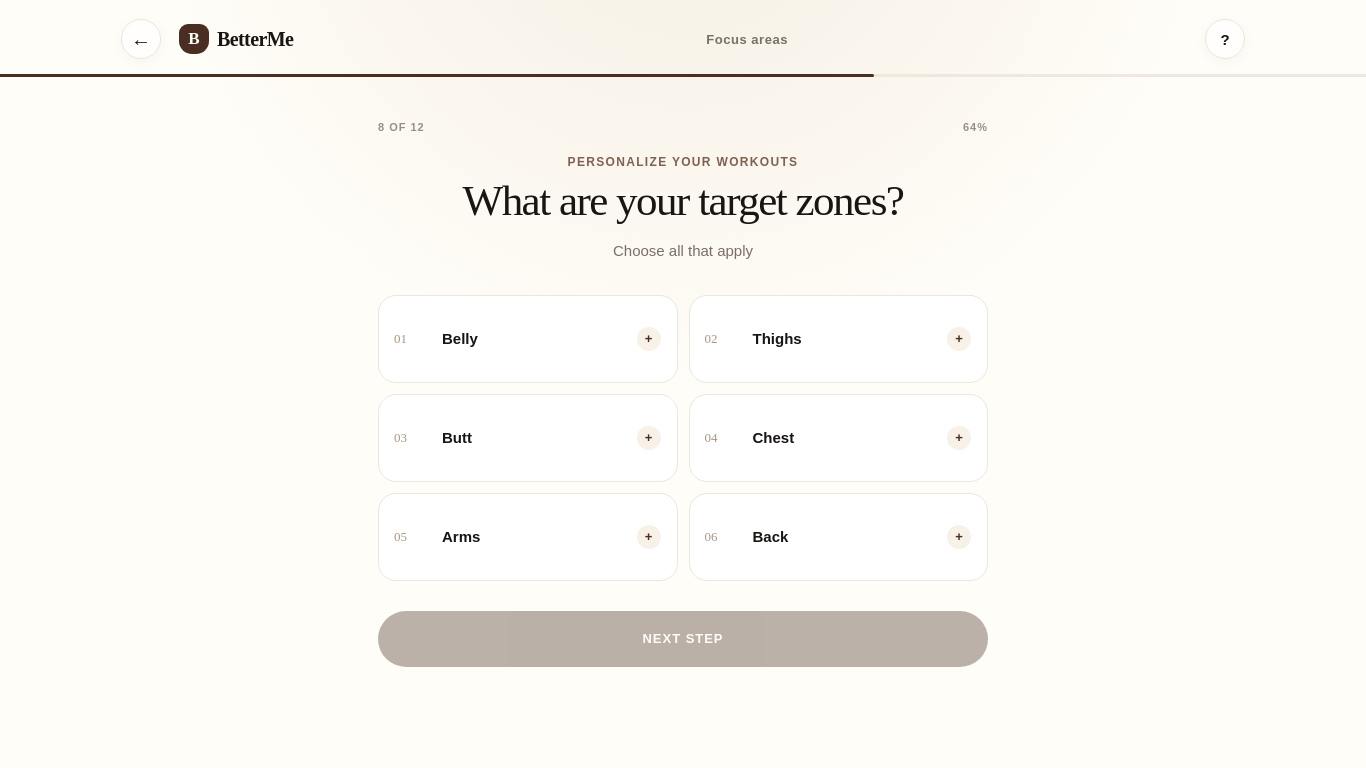
Test: OnboardingQuestionnaire › keeps NEXT STEP disabled on target zones until at least one zone is selected
The width and height of the screenshot is (1366, 768).
Expected: the heading "What are your target zones?" is shown, [462,177,903,224]
Expected: the button "NEXT STEP" is disabled, [378,611,988,667]
Step 1. Click the button "01 Belly +" → [460, 339], box [378,295,678,383]
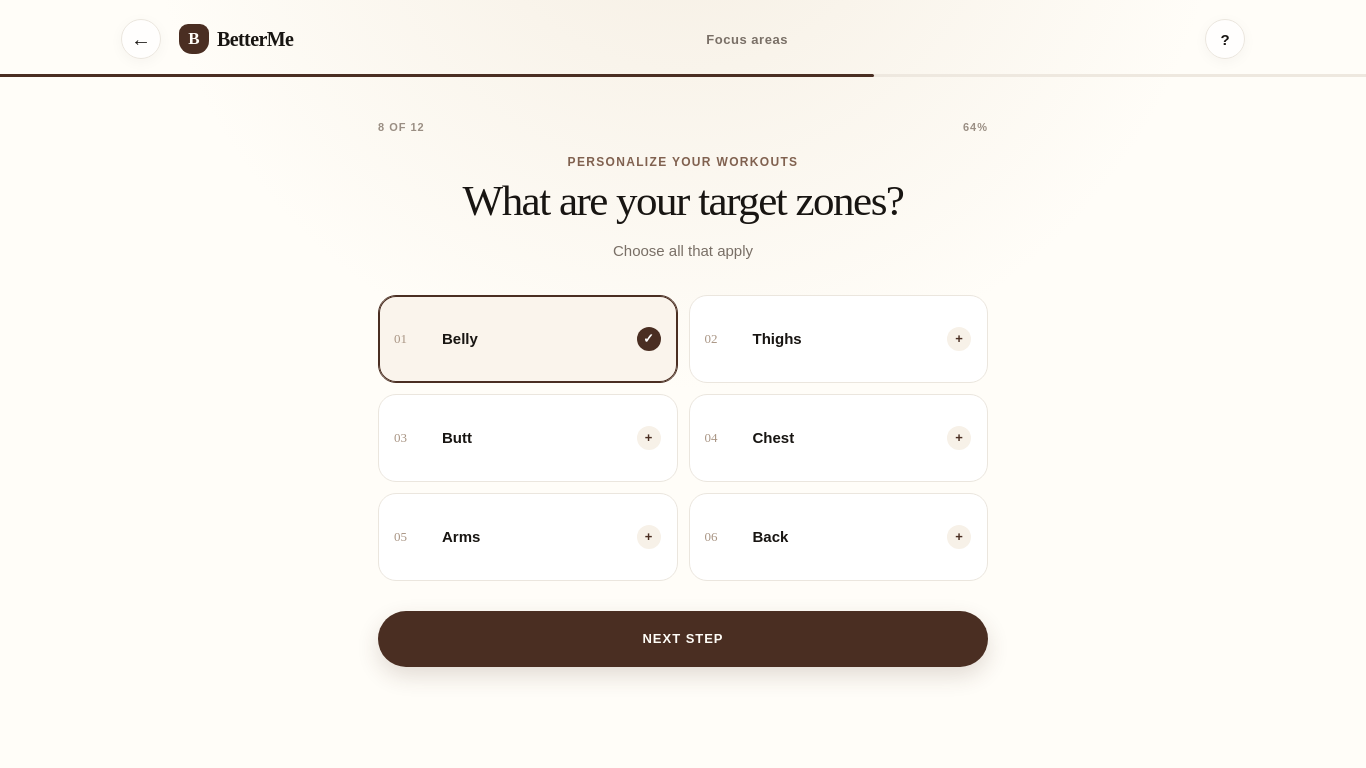
Result: the button "NEXT STEP" is enabled
Step 2. Click the button "NEXT STEP" → [683, 639], box [378,611,988,667]
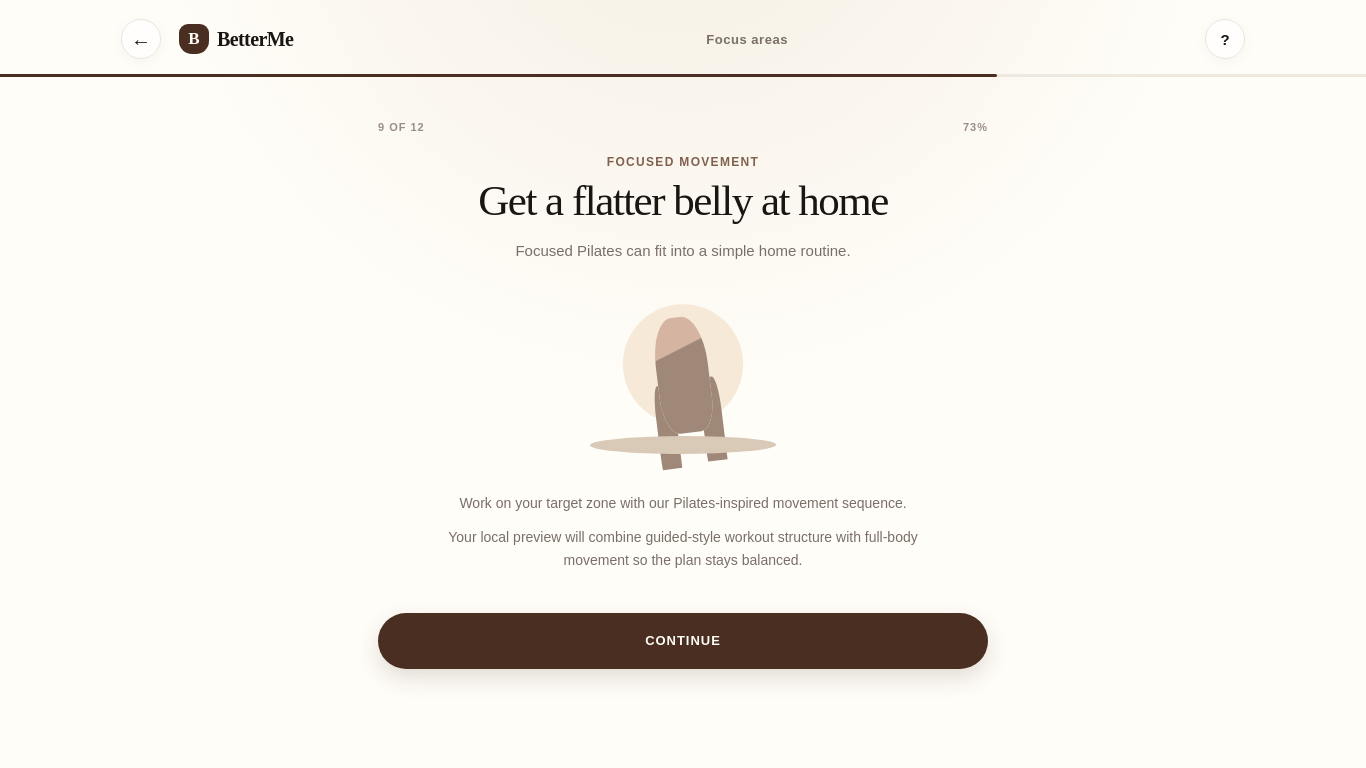
Result: the heading "Get a flatter belly at home" is shown at [478,177,888,224]
